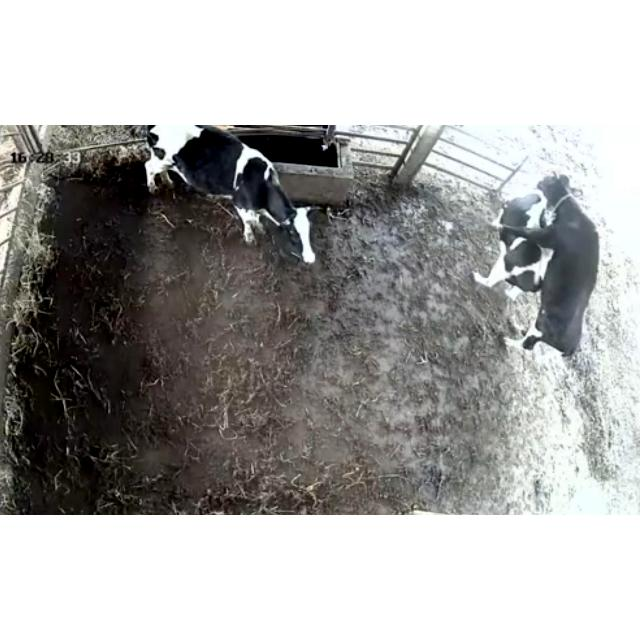ride: (496, 163, 606, 377)
